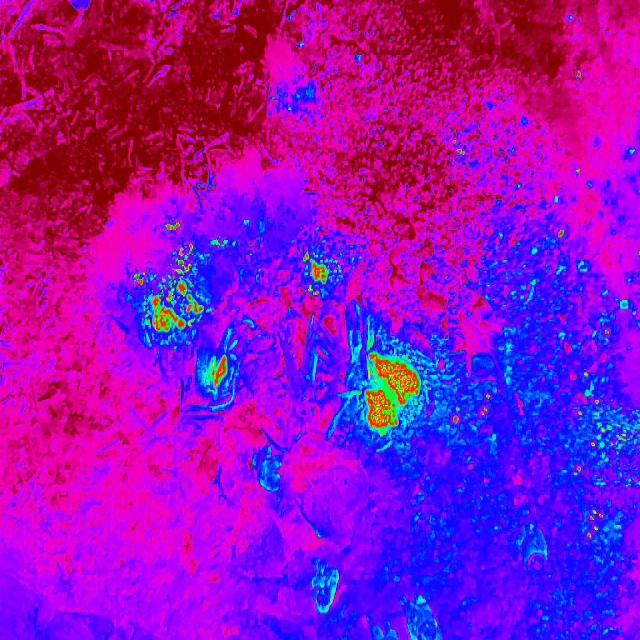fire: (546, 222, 640, 542), (130, 242, 206, 340), (357, 348, 423, 438), (447, 388, 498, 429), (300, 250, 331, 300), (202, 348, 232, 396), (451, 137, 470, 162), (161, 217, 185, 236), (572, 66, 586, 86)
